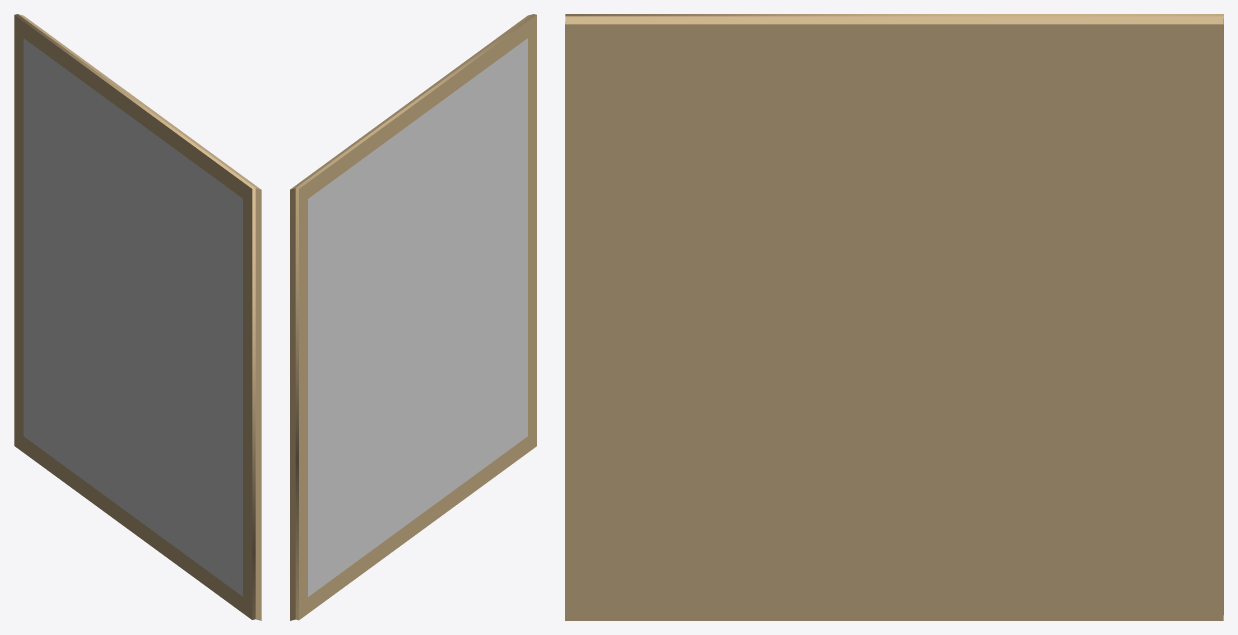
Rendered from Pictures.001.fbx.
3 renders of one model, left to right at view 1: azimuth 30°, elevation 25°; view 2: azimuth 150°, elevation 25°; view 3: azimuth 270°, elevation 25°, orthographic. The views are drawn at different scales.
Visible parts, largest first — view 1: Pictures.001; view 2: Pictures.001; view 3: Pictures.001.
Part boxes in pixels (x1,y1,x2,y2): Pictures.001: (14,14,261,620); Pictures.001: (290,14,536,620); Pictures.001: (565,14,1223,620).
Bounding box in the file's own units: 3.97 × 180 × 179.
